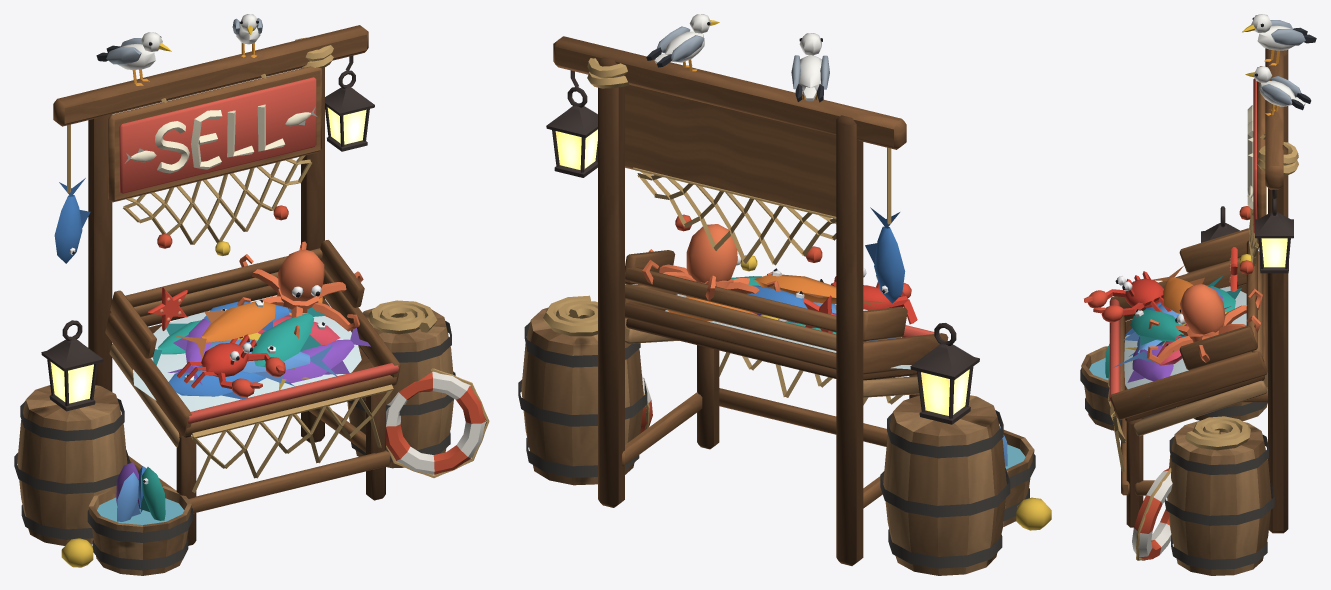
File: sell-barrel.glb
3 renders of one model, left to right at view 1: azimuth 30°, elevation 25°; view 2: azimuth 150°, elevation 25°; view 3: azimuth 270°, elevation 25°, orthographic. The views are drawn at different scales.
Parts seen in each view (by area): view 1: sell-barrel; view 2: sell-barrel; view 3: sell-barrel.
Part boxes in pixels (box(x1,y1,x2,y2)): sell-barrel: box(14, 14, 489, 575); sell-barrel: box(518, 14, 1051, 575); sell-barrel: box(1080, 14, 1316, 575).
Bounding box in the file's own units: 2.56 × 2.64 × 1.28.
Materials: 3 (2 with a texture image).
